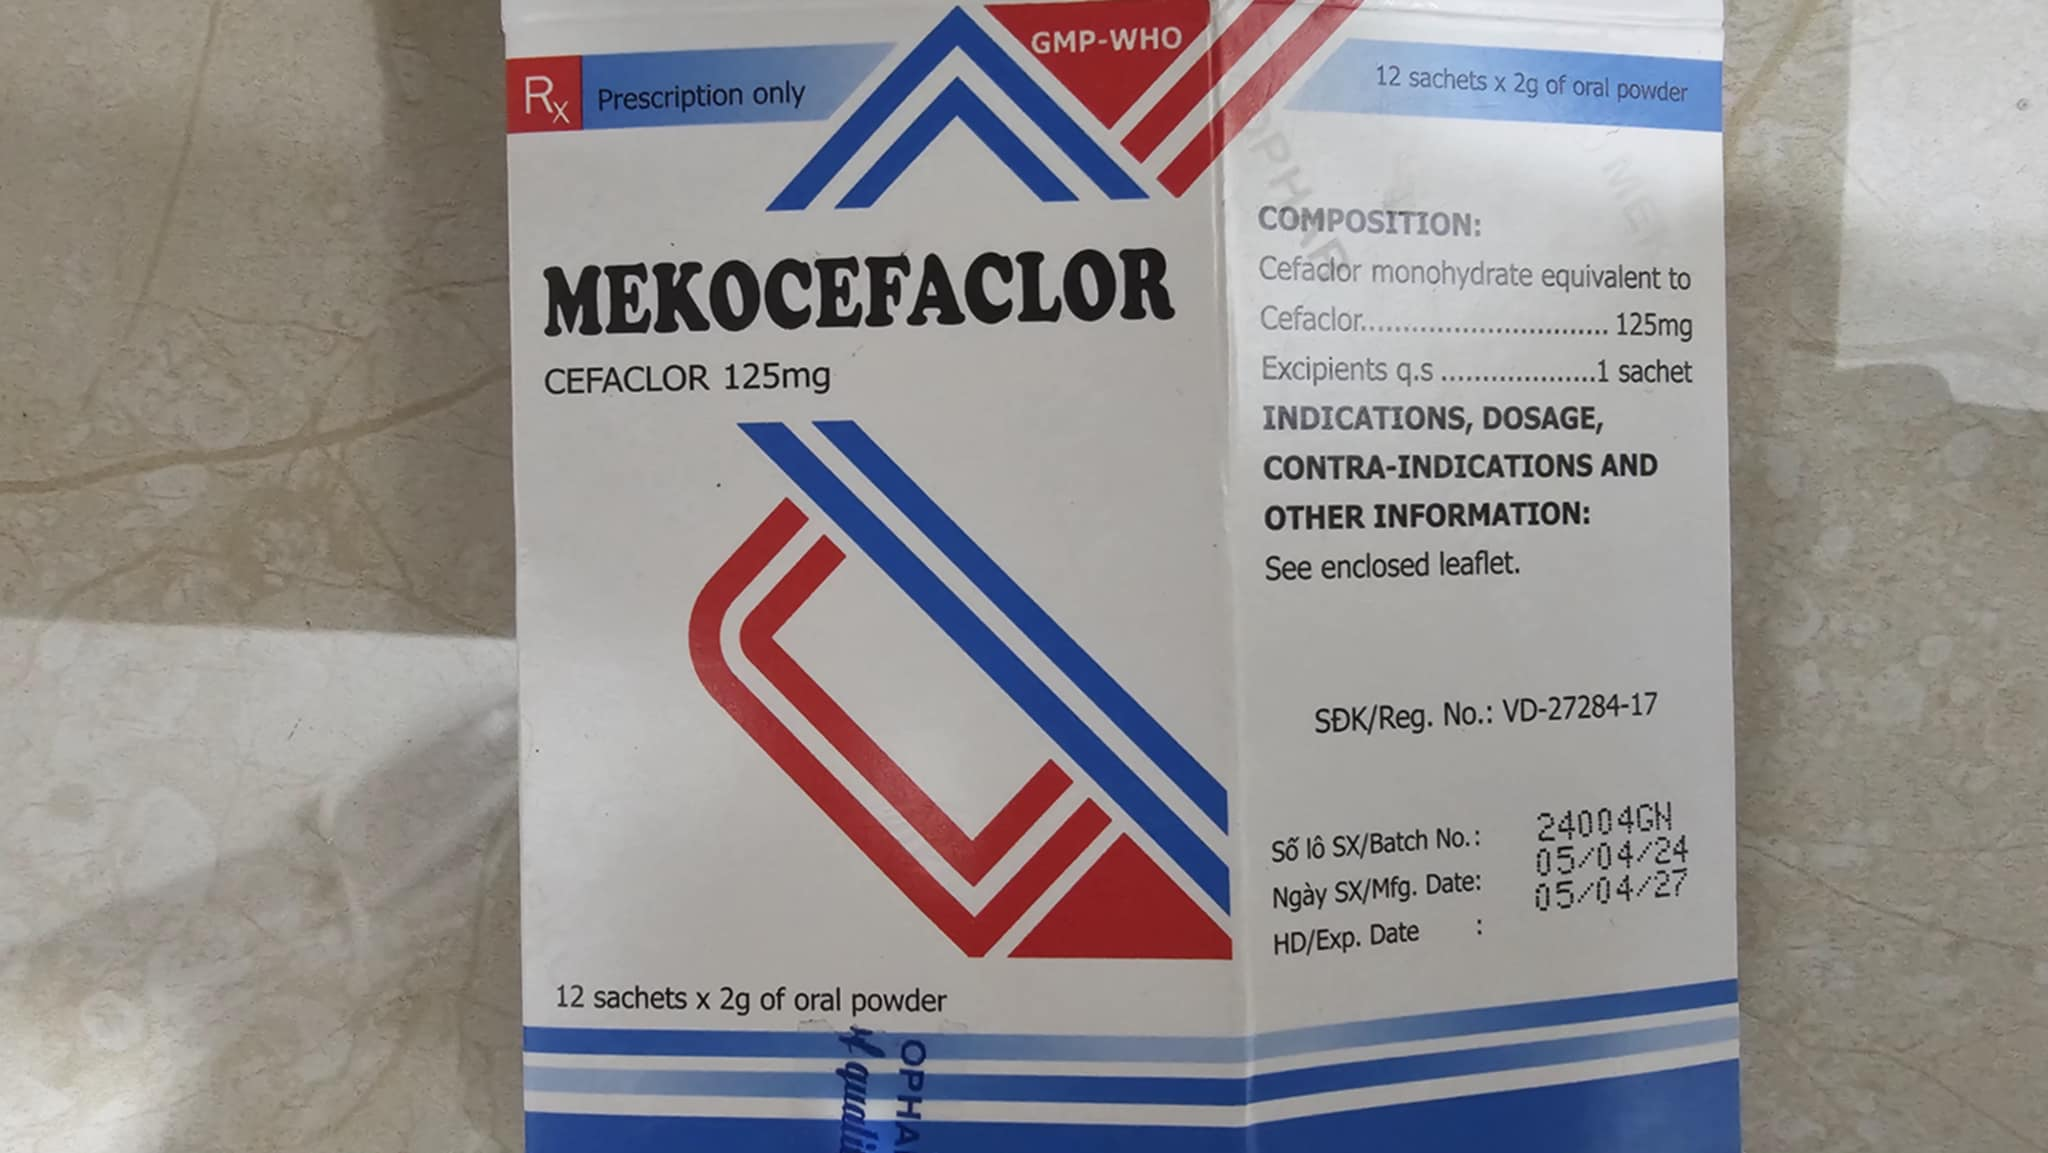Mekocefaclor: (535, 243, 1190, 336)
